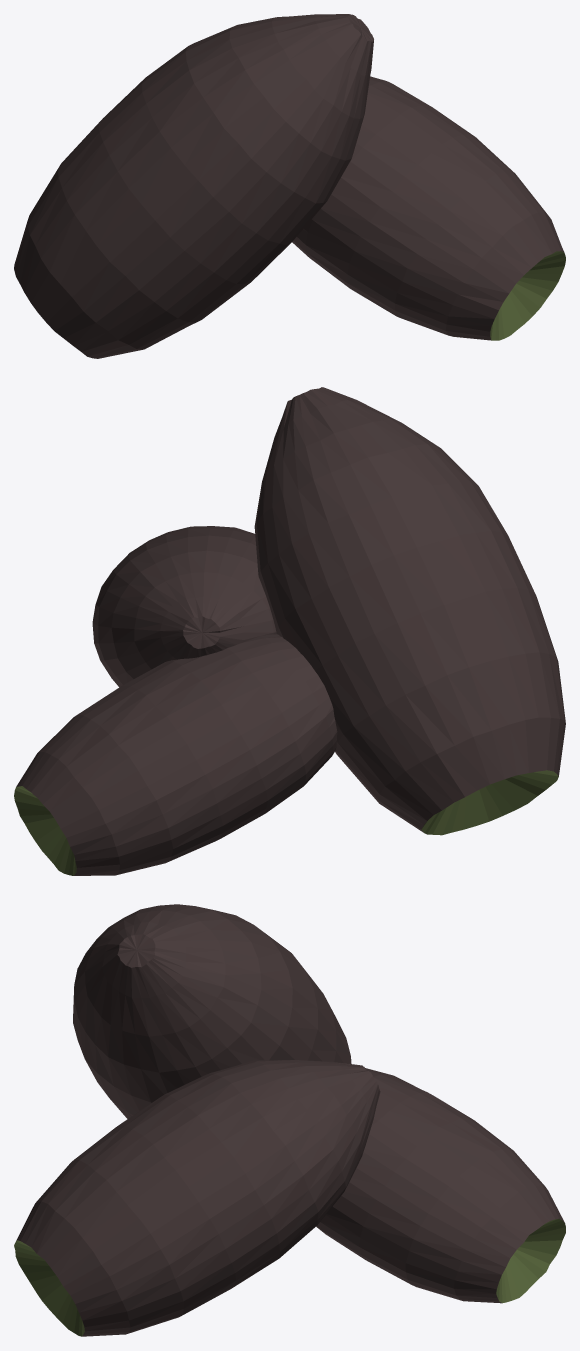
The model's file is olive.glb.
The picture shows the model from 3 angles, top to bottom: view 1: azimuth 30°, elevation 25°; view 2: azimuth 150°, elevation 25°; view 3: azimuth 270°, elevation 25°; orthographic projection. The views are drawn at different scales.
Bounding box in the file's own units: 2.02 × 1.39 × 2.05.
